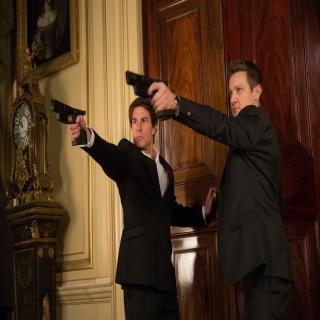gun: (123, 64, 176, 119), (50, 95, 92, 149)
